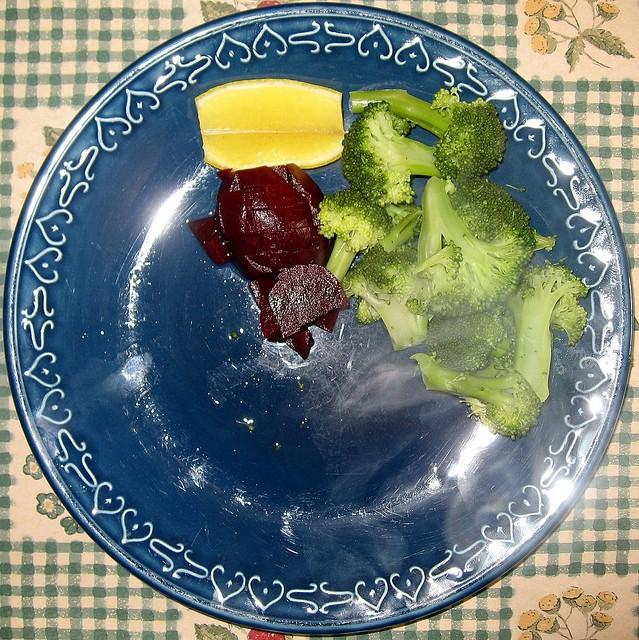broccoli: (393, 176, 536, 320), (348, 86, 506, 176), (506, 264, 592, 404), (408, 353, 541, 441), (341, 100, 443, 208), (318, 188, 394, 282), (426, 302, 514, 371)
lemon: (194, 78, 346, 172)
